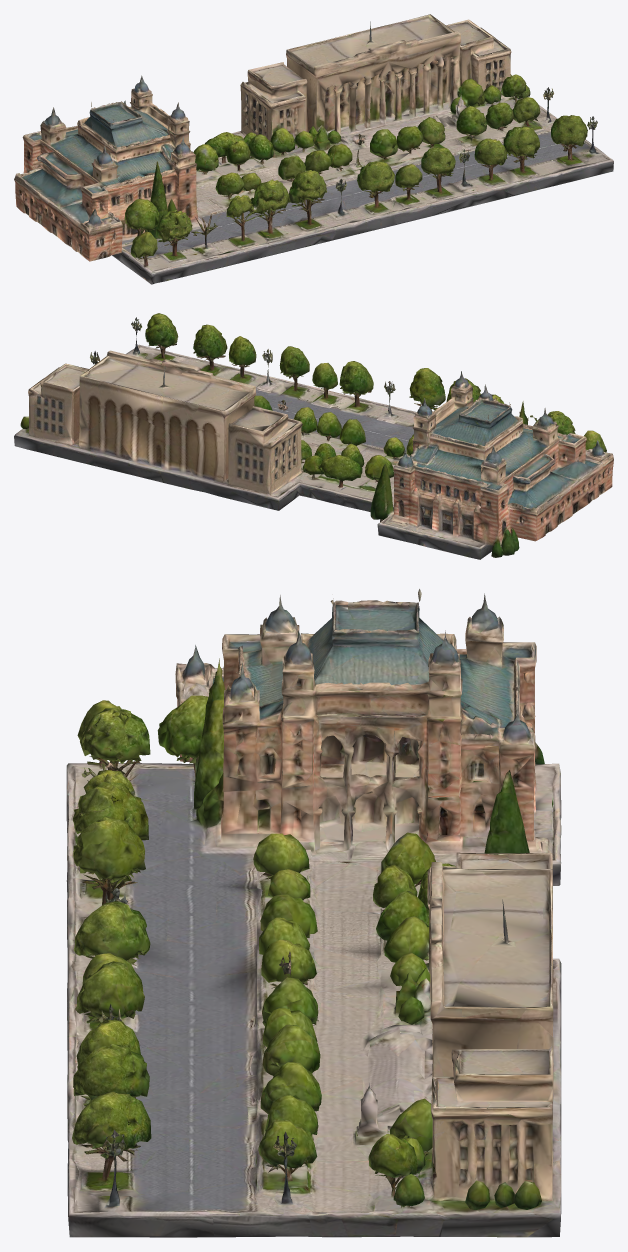
File: m_tb_rustaveli.glb
3 renders of one model, top to bottom at view 1: azimuth 30°, elevation 25°; view 2: azimuth 150°, elevation 25°; view 3: azimuth 270°, elevation 25°, orthographic. The views are drawn at different scales.
Size of the model in its own units: 0.9998 by 0.2301 by 0.4284.
1 material, 1 textured.
